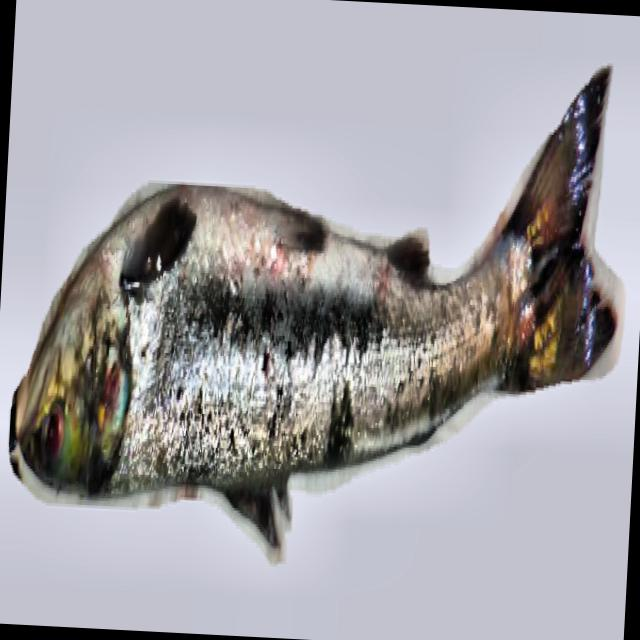mild_red: (114, 192, 526, 491)
